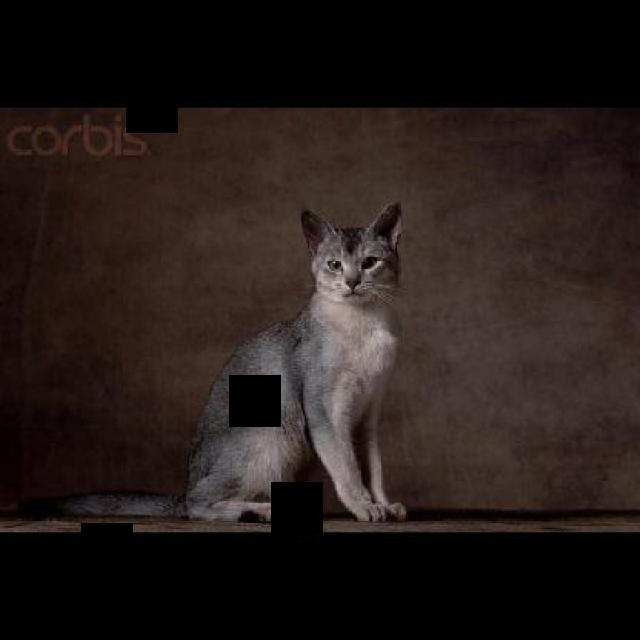unauthorized: (17, 198, 408, 524)
